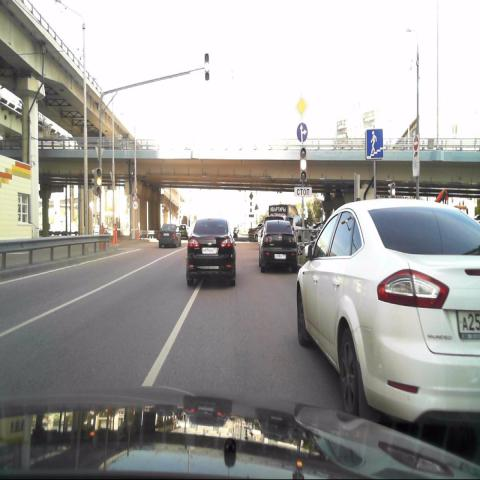6_16: (294, 185, 312, 198)
